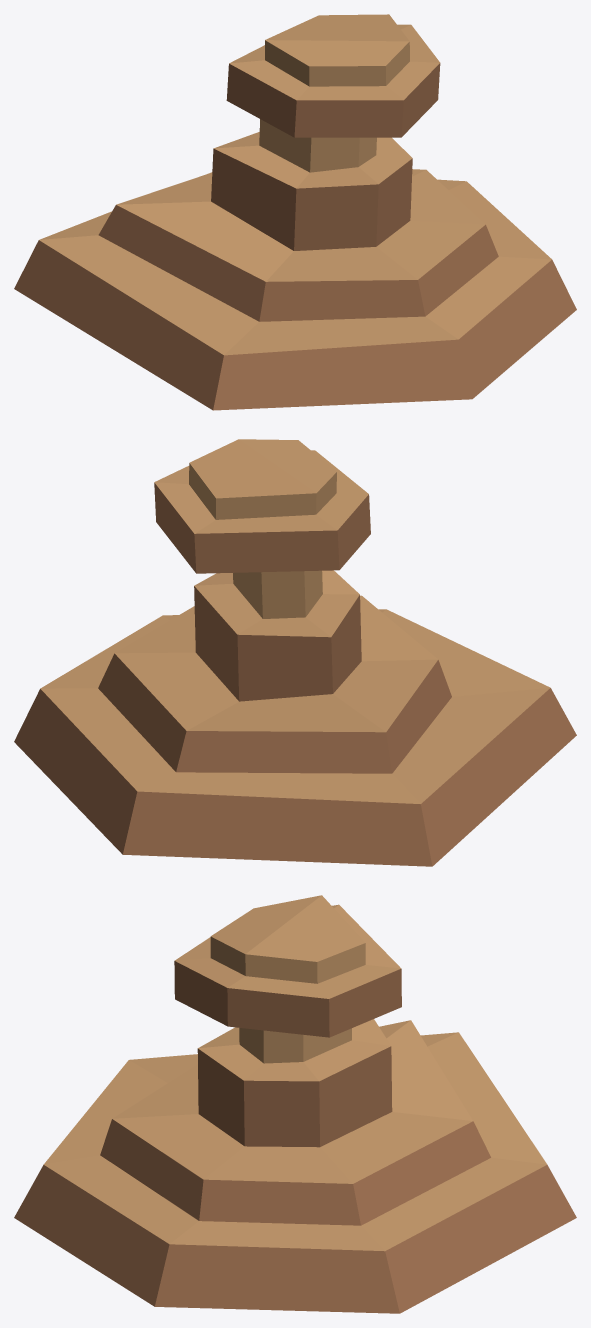
The model's file is rocks_04.fbx.
The picture shows the model from 3 angles, top to bottom: view 1: azimuth 30°, elevation 25°; view 2: azimuth 150°, elevation 25°; view 3: azimuth 270°, elevation 25°; orthographic projection. The views are drawn at different scales.
Visible parts, largest first — view 1: rocks_04; view 2: rocks_04; view 3: rocks_04.
Boxes of the visible parts, x1=… form: rocks_04: x1=14, y1=14, x2=576, y2=410; rocks_04: x1=14, y1=439, x2=576, y2=866; rocks_04: x1=14, y1=895, x2=576, y2=1313.
Bounding box in the file's own units: 1.63 × 1.72 × 0.9762.
